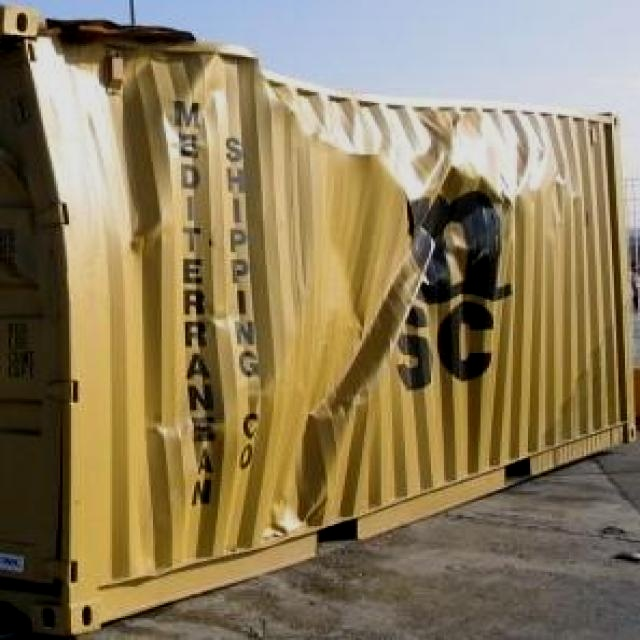Dent: (130, 40, 518, 113), (21, 34, 88, 391), (333, 224, 432, 400), (143, 332, 268, 466), (102, 71, 167, 233), (275, 400, 346, 534)
